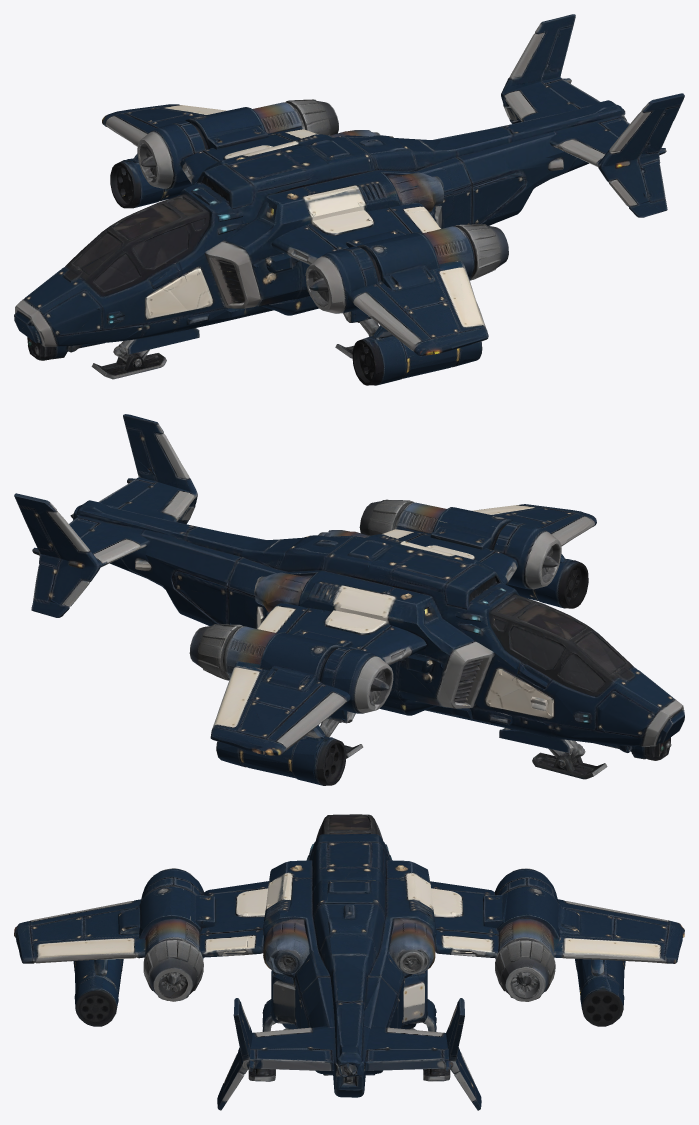
The model's file is showcase-unit.glb.
3 views of the same model, one above another, from view 1: azimuth 30°, elevation 25°; view 2: azimuth 150°, elevation 25°; view 3: azimuth 270°, elevation 25° (orthographic). The views are drawn at different scales.
Visible parts, largest first — view 1: Concord Skyhawk; view 2: Concord Skyhawk; view 3: Concord Skyhawk.
Part boxes in pixels (left/top/right/bottom): Concord Skyhawk: left=14, top=14, right=684, bottom=385; Concord Skyhawk: left=14, top=414, right=684, bottom=785; Concord Skyhawk: left=14, top=814, right=684, bottom=1110.
Size of the model in its own units: 1.9 by 0.5785 by 1.75.
1 material, 1 textured.
